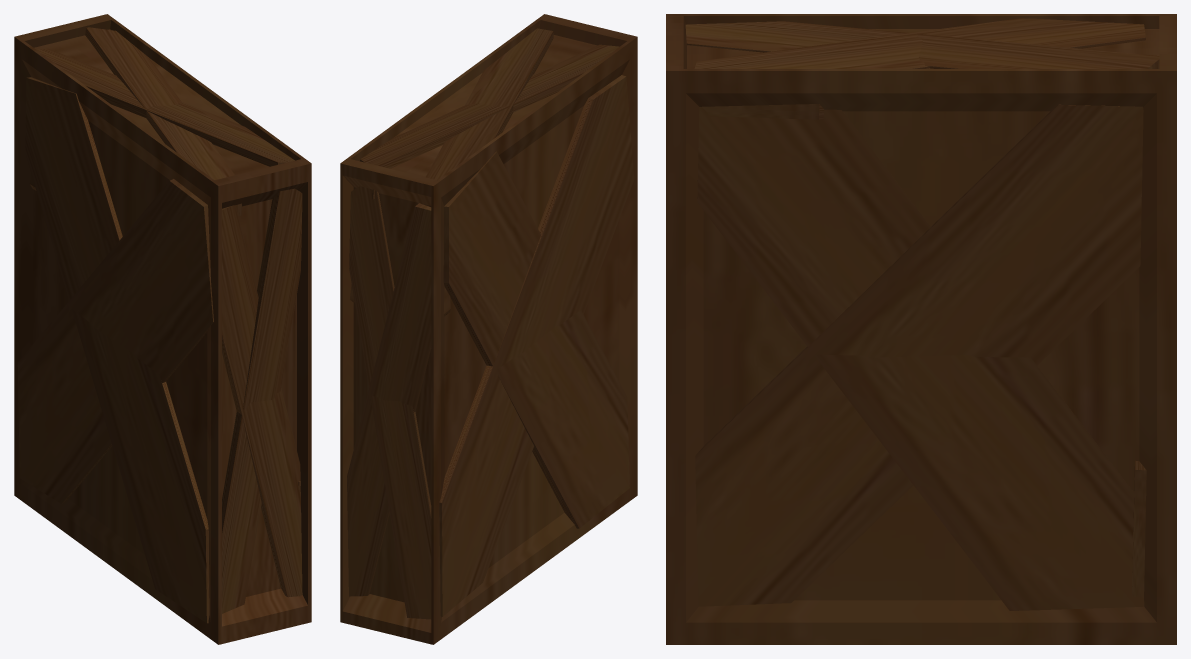
The model's file is CaisseGrande.fbx.
3 views of the same model, side by side, from view 1: azimuth 30°, elevation 25°; view 2: azimuth 150°, elevation 25°; view 3: azimuth 270°, elevation 25° (orthographic). The views are drawn at different scales.
Visible parts, largest first — view 1: CaisseGrande; view 2: CaisseGrande; view 3: CaisseGrande.
Part boxes in pixels (x1,y1,x2,y2): CaisseGrande: (14, 14, 311, 644); CaisseGrande: (340, 14, 637, 644); CaisseGrande: (666, 14, 1176, 644).
Bounding box in the file's own units: 205 × 940 × 759.
